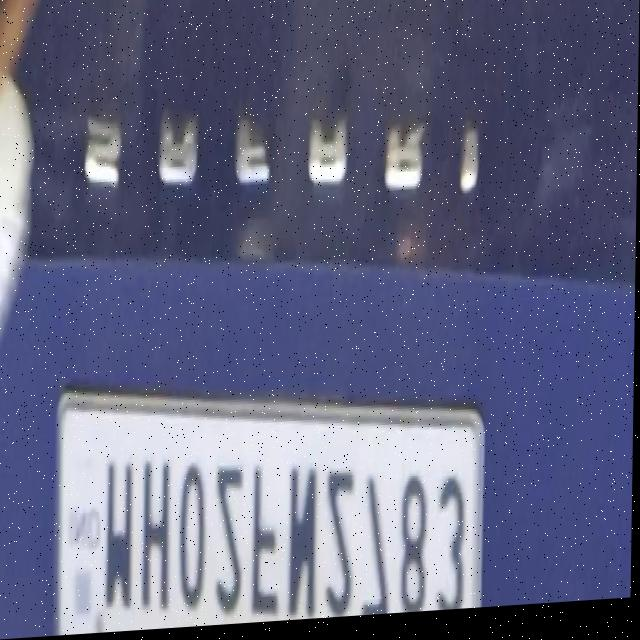plate: (56, 390, 487, 637)
